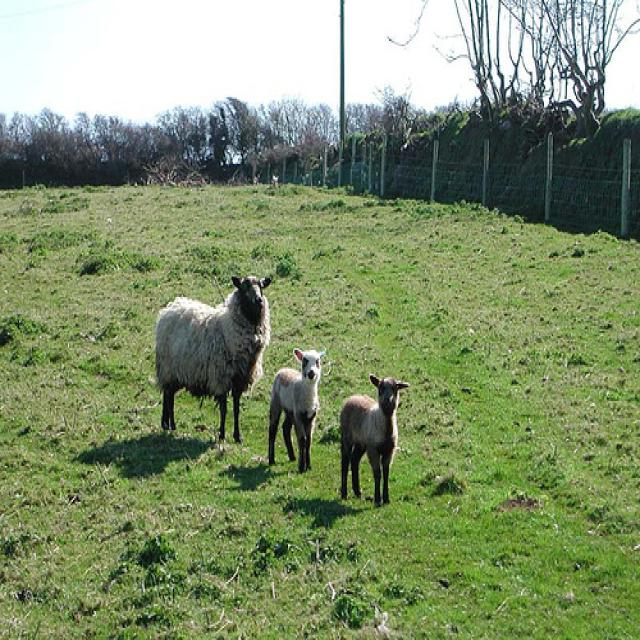sheep: (154, 274, 273, 448), (339, 373, 411, 503), (267, 347, 329, 474)
